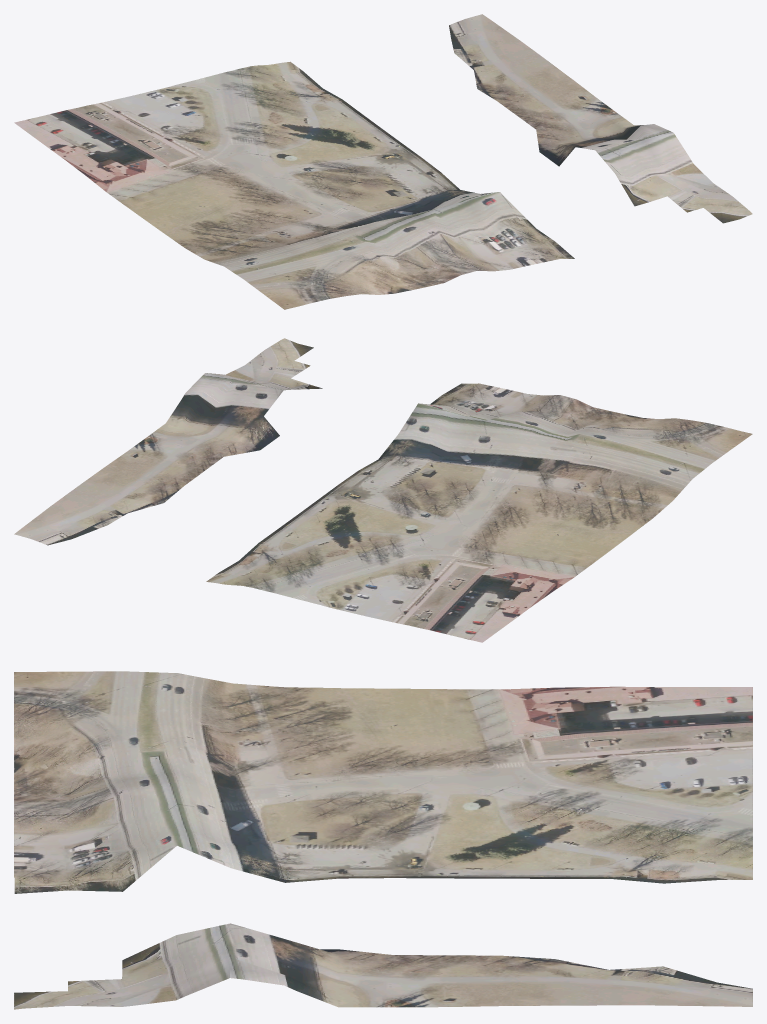
Rendered from CM_Terrain_24486978_6820204.fbx.
3 renders of one model, top to bottom at view 1: azimuth 30°, elevation 25°; view 2: azimuth 150°, elevation 25°; view 3: azimuth 270°, elevation 25°, orthographic. The views are drawn at different scales.
Visible parts, largest first — view 1: CM_Terrain_24486978_6820204_LOD0; view 2: CM_Terrain_24486978_6820204_LOD0; view 3: CM_Terrain_24486978_6820204_LOD0.
Boxes of the visible parts, <box> form: CM_Terrain_24486978_6820204_LOD0: <box>14,14,752,309</box>; CM_Terrain_24486978_6820204_LOD0: <box>14,338,752,642</box>; CM_Terrain_24486978_6820204_LOD0: <box>14,671,752,1009</box>.
Size of what is drawn, in the model's own units: 205 by 11.66 by 205.
